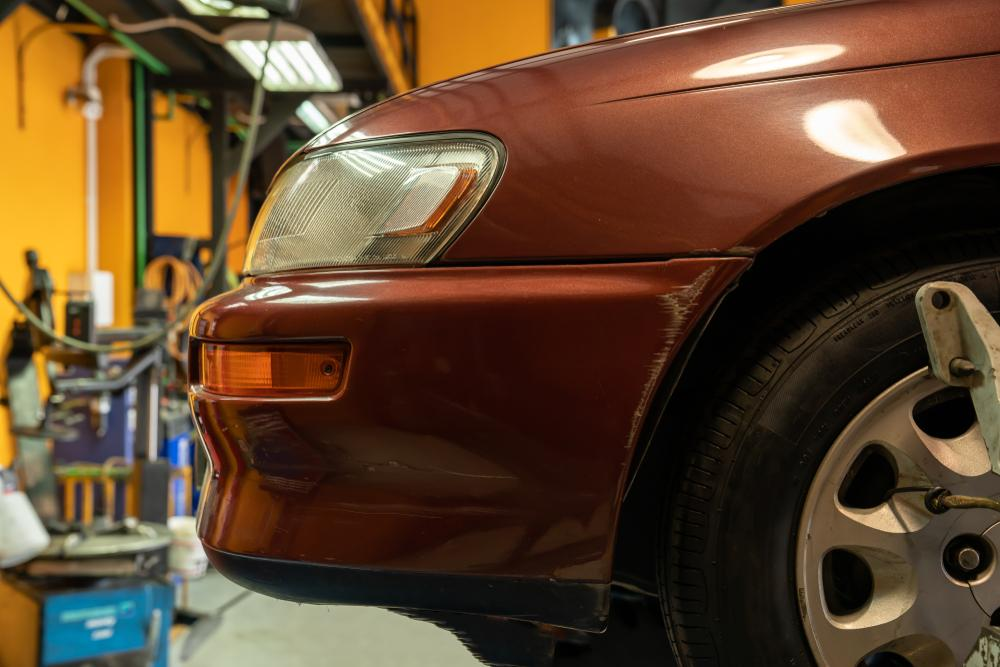scratch: (620, 264, 713, 454)
